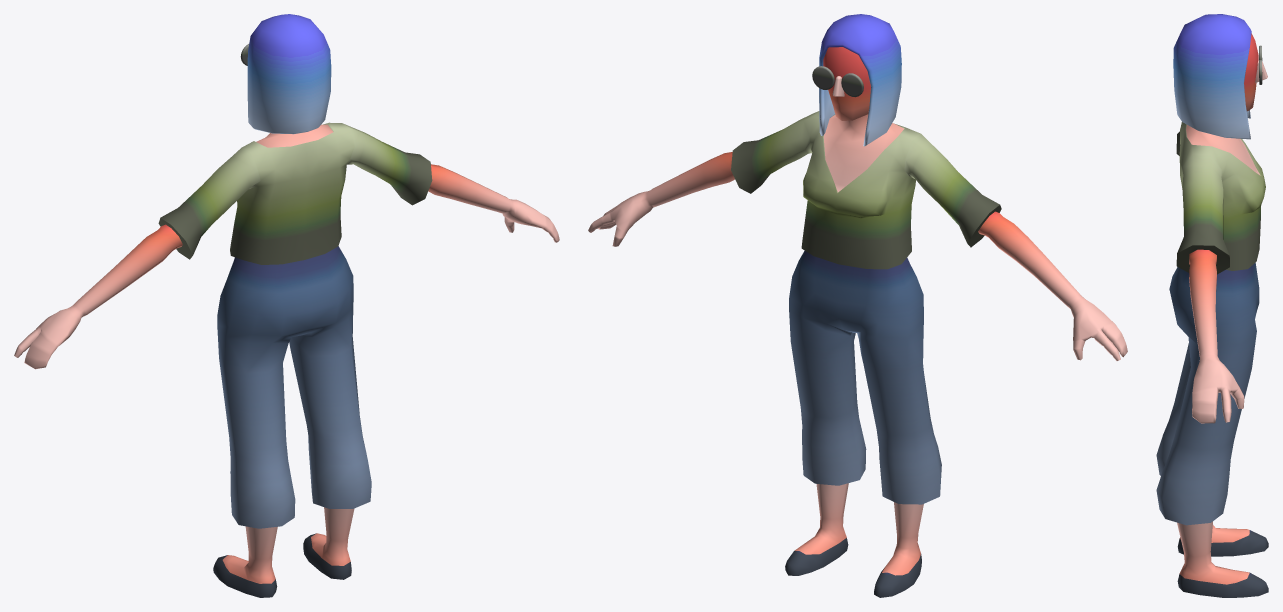
File: rig_char_53.fbx
3 renders of one model, left to right at view 1: azimuth 30°, elevation 25°; view 2: azimuth 150°, elevation 25°; view 3: azimuth 270°, elevation 25°, orthographic.
Parts seen in each view (by area): view 1: char53x2; view 2: char53x2; view 3: char53x2.
Part boxes in pixels (x1=…): char53x2: x1=14, y1=14, x2=559, y2=597; char53x2: x1=588, y1=14, x2=1127, y2=597; char53x2: x1=1156, y1=14, x2=1268, y2=597.
Bounding box in the file's own units: 9.39 × 9.27 × 1.7.
1 material, 1 textured.
